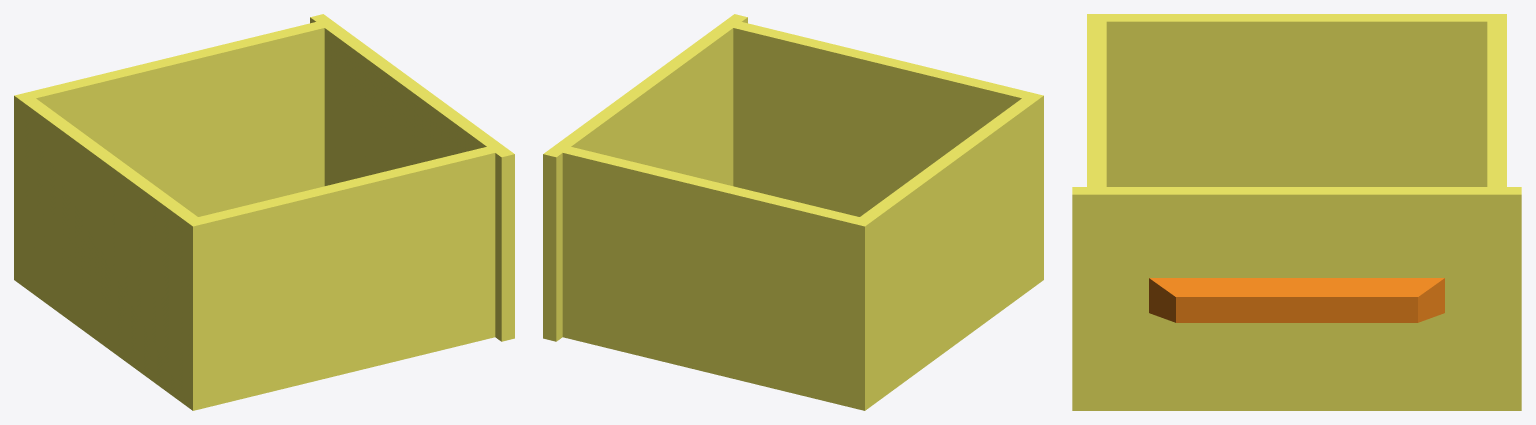
The model's file is SM_OfficeCabbinet_Shelf.fbx.
3 renders of one model, left to right at view 1: azimuth 30°, elevation 25°; view 2: azimuth 150°, elevation 25°; view 3: azimuth 270°, elevation 25°, orthographic. The views are drawn at different scales.
Visible parts, largest first — view 1: SM_OfficeCabbinet_Shelf; view 2: SM_OfficeCabbinet_Shelf; view 3: SM_OfficeCabbinet_Shelf.
Part boxes in pixels (x1,y1,x2,y2): SM_OfficeCabbinet_Shelf: (14,14,514,410); SM_OfficeCabbinet_Shelf: (543,14,1043,410); SM_OfficeCabbinet_Shelf: (1072,14,1521,410).
Bounding box in the file's own units: 35.9 × 18.56 × 34.91.
